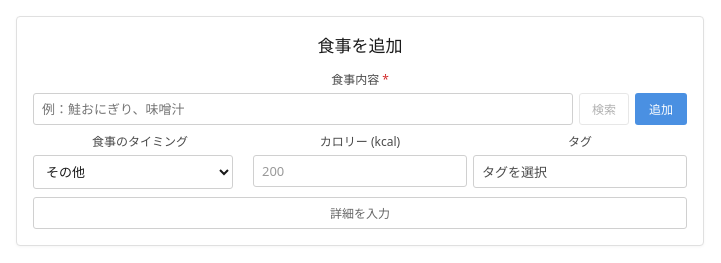
Test: MealForm › 送信成功後にフォームがリセットされる
Type "ラーメン" into the field labelled "食事内容" at {"x": 303, "y": 109}, box [33,93,573,125]
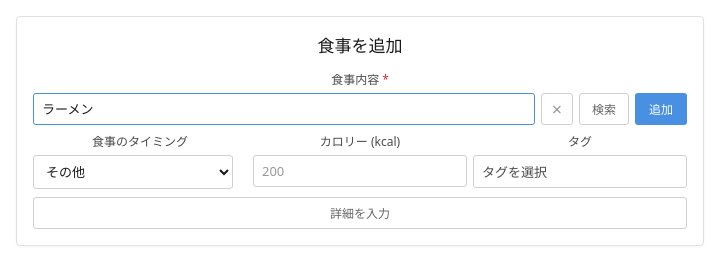
Type "500" into the number field labelled "カロリー (kcal)" at {"x": 360, "y": 171}, box [253,155,467,187]
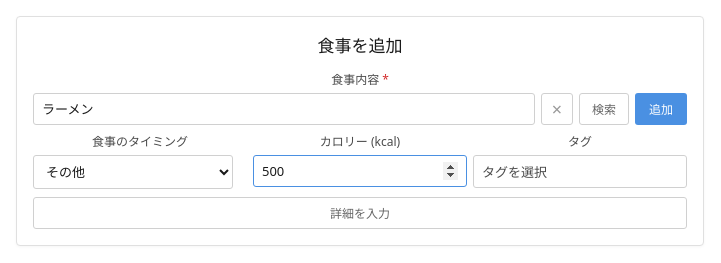
Click the button "追加" at {"x": 661, "y": 109}, box [635,93,687,125]
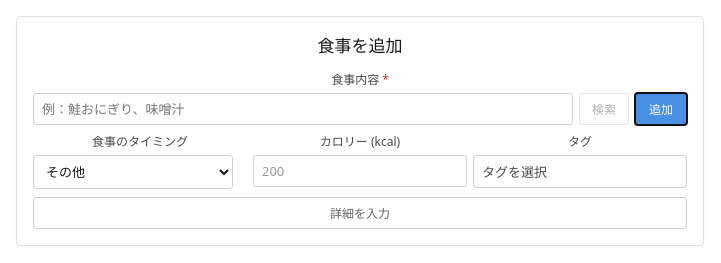
Result: the field labelled "食事内容" is empty at [33,93,573,125]
Result: the number field labelled "カロリー (kcal)" is not empty at [253,155,467,187]
